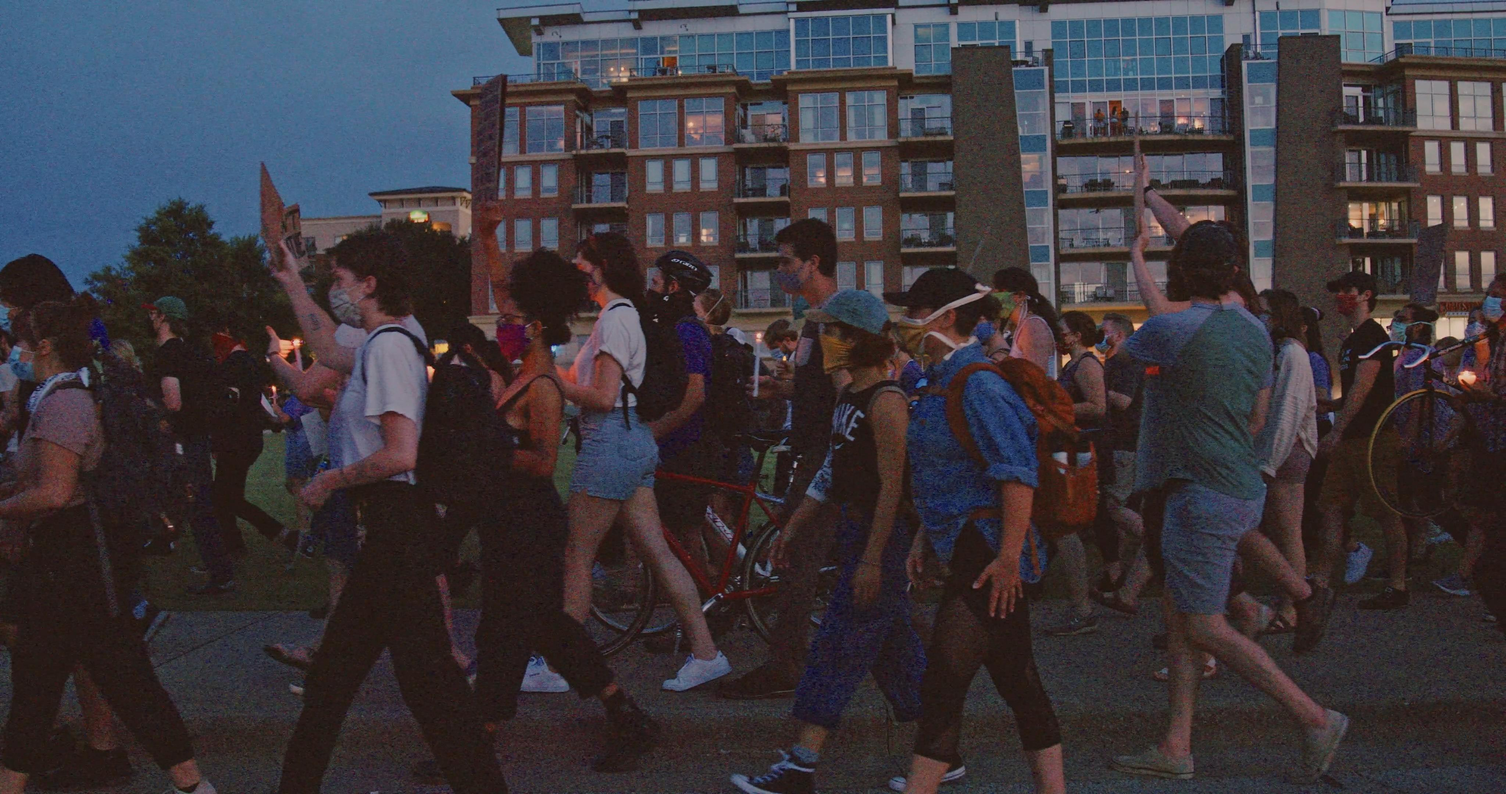helmet: (644, 249, 714, 314)
no-helmet: (494, 245, 585, 363), (881, 268, 992, 356), (328, 229, 414, 328), (803, 289, 895, 375), (9, 300, 93, 384), (0, 252, 74, 340), (571, 231, 644, 302), (773, 216, 837, 294), (1179, 224, 1239, 301), (992, 267, 1046, 320), (1326, 271, 1379, 317), (1258, 288, 1303, 341), (140, 296, 192, 340), (1055, 310, 1104, 356), (1389, 303, 1439, 346), (1095, 312, 1134, 355), (763, 319, 798, 361), (1299, 305, 1326, 353), (1482, 272, 1506, 324), (1463, 305, 1491, 338)
